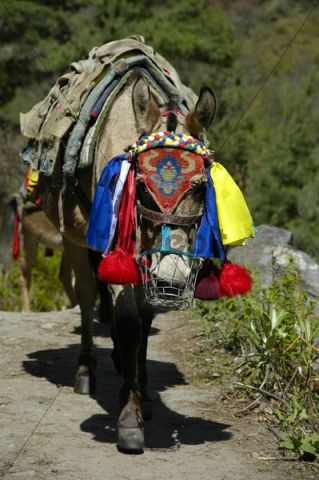equine: (17, 33, 271, 461)
